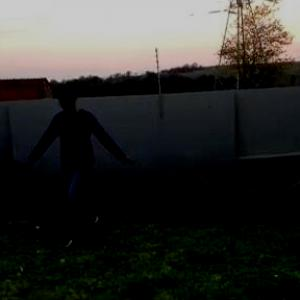land: (21, 81, 126, 235)
